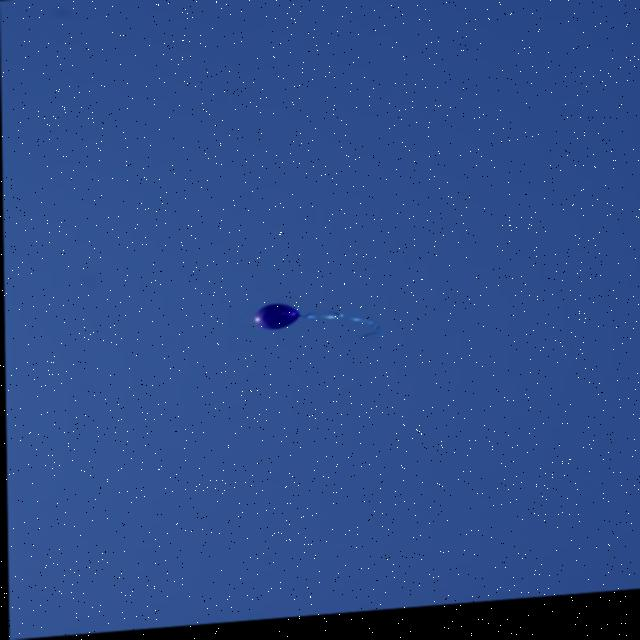balloon: (242, 306, 310, 338)
